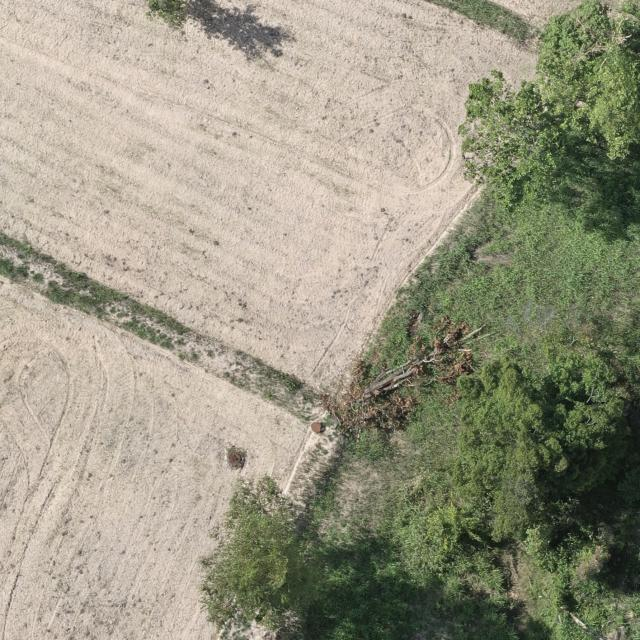Tree: (196, 473, 331, 637), (450, 358, 554, 544), (535, 0, 640, 159), (457, 68, 570, 215), (546, 350, 634, 450), (143, 0, 190, 31)
